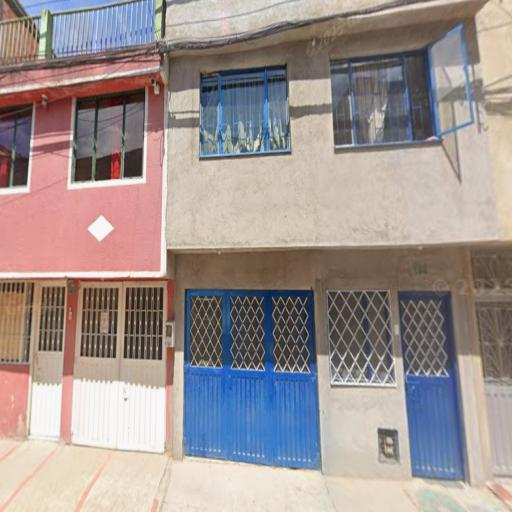Casa: (167, 0, 500, 491), (0, 0, 175, 460)
